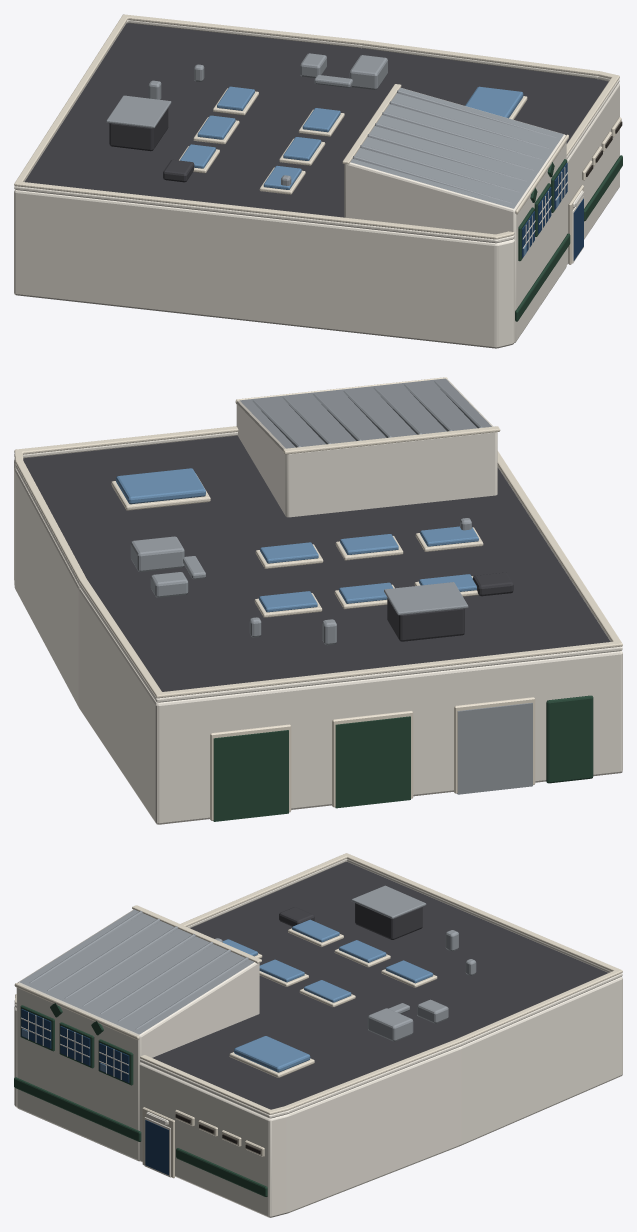
The model's file is 362-brannan.optimized.glb.
3 views of the same model, one above another, from view 1: azimuth 30°, elevation 25°; view 2: azimuth 150°, elevation 25°; view 3: azimuth 270°, elevation 25° (orthographic). The views are drawn at different scales.
Visible parts, largest first — view 1: body, bay, grp_Toy_sand, grp_Toy_steel, grp_Toy_glassl, parapet, grp_Toy_bottle, grp_Toy_roofd, grp_Toy_glass, grp_Toy_trim; view 2: body, bay, grp_Toy_sand, grp_Toy_bottle, grp_Toy_steel, grp_Toy_glassl, parapet, grp_Toy_roofd; view 3: body, bay, grp_Toy_sand, grp_Toy_steel, grp_Toy_glassl, grp_Toy_bottle, parapet, grp_Toy_glass, grp_Toy_roofd, grp_Toy_trim.
Boxes of the visible parts, bbox=[...] form: body: bbox=[14, 23, 619, 348]; bay: bbox=[344, 87, 566, 342]; grp_Toy_sand: bbox=[14, 14, 621, 264]; grp_Toy_steel: bbox=[106, 53, 556, 203]; grp_Toy_glassl: bbox=[180, 86, 523, 189]; parapet: bbox=[14, 20, 619, 243]; grp_Toy_bottle: bbox=[515, 155, 622, 321]; grp_Toy_roofd: bbox=[109, 108, 194, 182]; grp_Toy_glass: bbox=[522, 163, 583, 260]; grp_Toy_trim: bbox=[522, 167, 583, 263]; body: bbox=[14, 435, 622, 824]; bay: bbox=[236, 378, 497, 517]; grp_Toy_sand: bbox=[14, 377, 622, 820]; grp_Toy_bottle: bbox=[213, 695, 593, 821]; grp_Toy_steel: bbox=[130, 381, 532, 794]; grp_Toy_glassl: bbox=[116, 468, 478, 612]; parapet: bbox=[14, 432, 622, 702]; grp_Toy_roofd: bbox=[387, 572, 513, 641]; body: bbox=[14, 862, 622, 1217]; bay: bbox=[16, 909, 259, 1161]; grp_Toy_sand: bbox=[14, 853, 622, 1178]; grp_Toy_steel: bbox=[29, 885, 476, 1041]; grp_Toy_glassl: bbox=[223, 919, 433, 1072]; grp_Toy_bottle: bbox=[14, 1003, 267, 1196]; parapet: bbox=[14, 859, 622, 1118]; grp_Toy_glass: bbox=[21, 1009, 168, 1175]; grp_Toy_roofd: bbox=[279, 903, 422, 939]; grp_Toy_trim: bbox=[21, 1012, 170, 1177].
Size of the model in its own units: 31.23 by 8.6 by 30.84.
